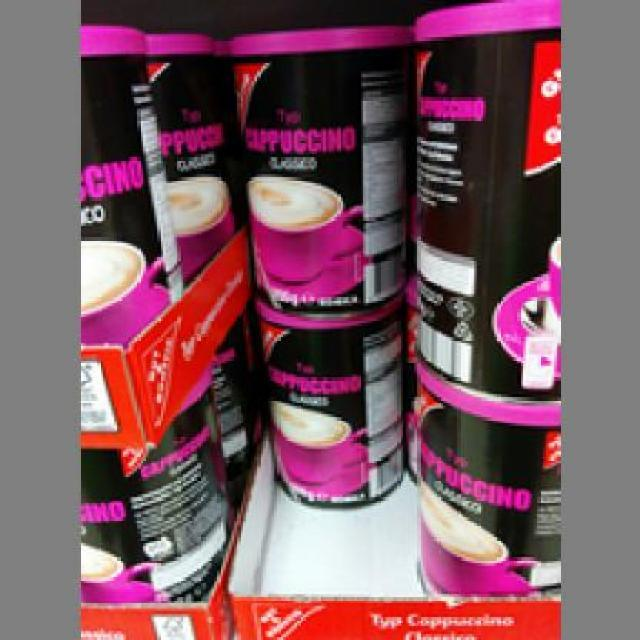Coffee: (406, 0, 554, 397), (223, 19, 403, 312), (246, 288, 408, 508), (408, 360, 558, 591)
